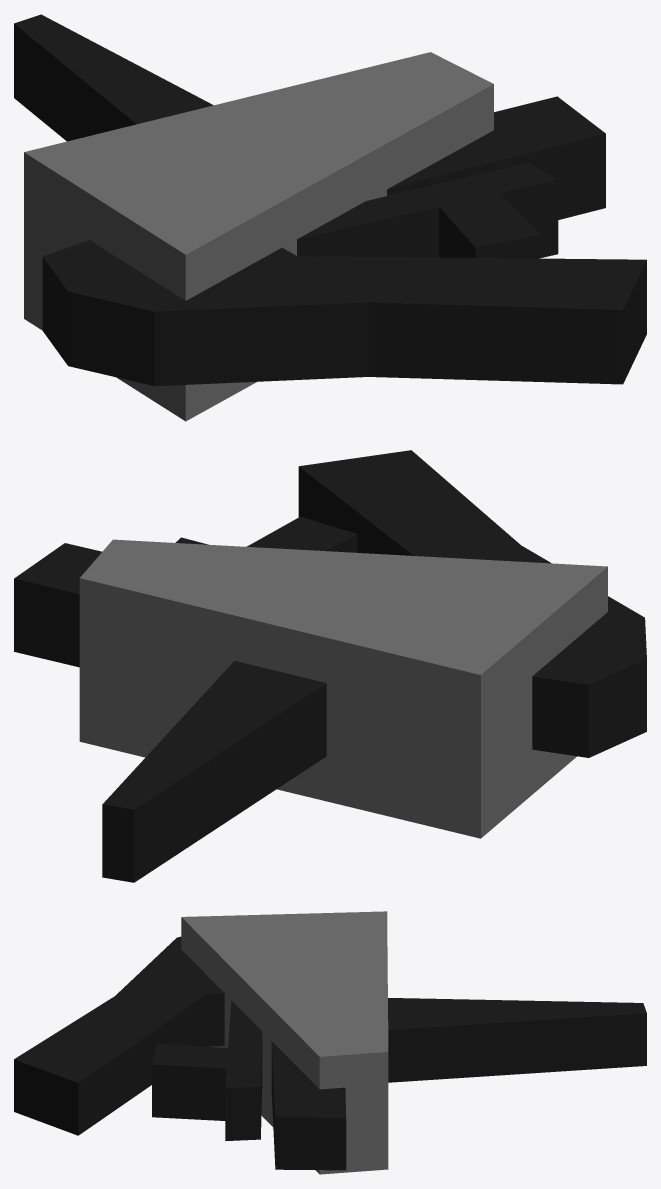
The model's file is triggerGroup_3D.glb.
3 renders of one model, top to bottom at view 1: azimuth 30°, elevation 25°; view 2: azimuth 150°, elevation 25°; view 3: azimuth 270°, elevation 25°, orthographic. The views are drawn at different scales.
Visible parts, largest first — view 1: Cube.002; view 2: Cube.002; view 3: Cube.002.
Part boxes in pixels (left/top/right/bottom): Cube.002: left=14, top=14, right=646, bottom=421; Cube.002: left=14, top=450, right=646, bottom=882; Cube.002: left=14, top=911, right=646, bottom=1174.
Size of the model in its own units: 0.1068 by 0.03 by 0.1462.
Materials: 1 (1 with a texture image).
